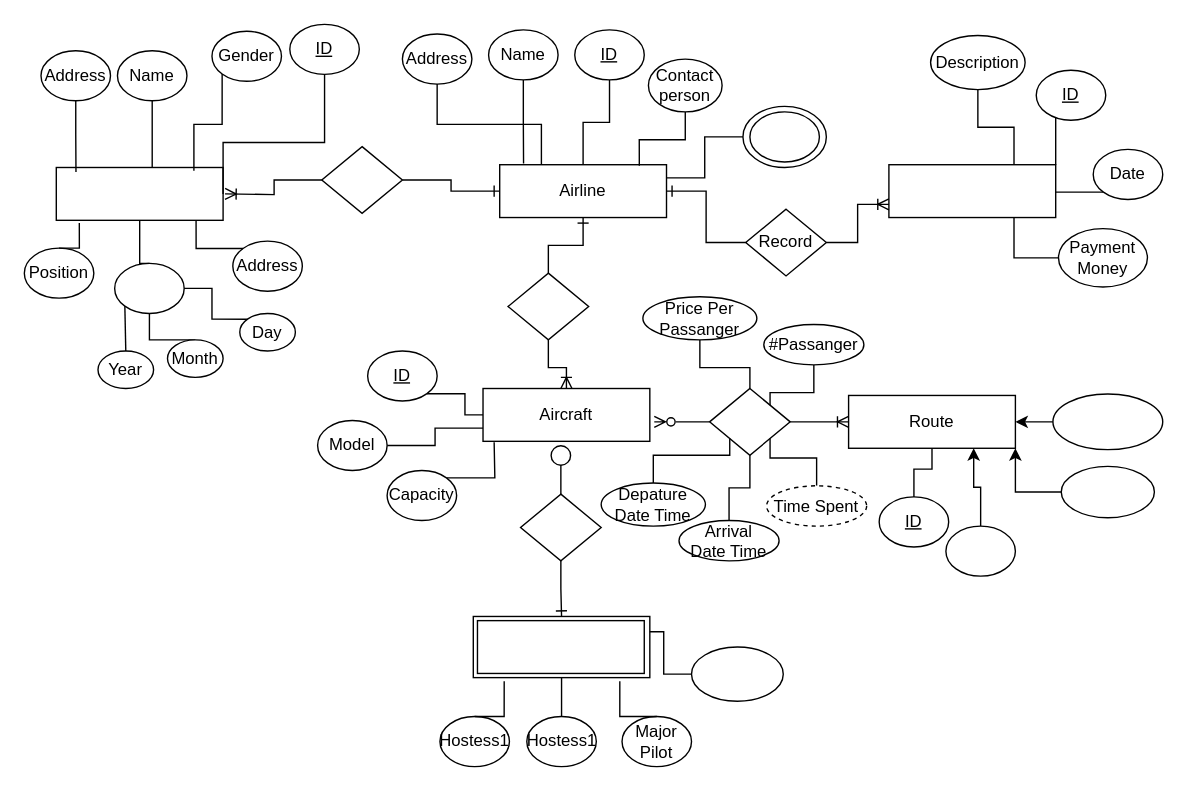
Image size: 1187x791. Some labels were removed from this diagram. The centre of each missing label's shape, as x and y in pixels:
"Assign" goes at (x=749, y=421).
"Assistant Pilot" goes at (x=736, y=673).
"BOD" goes at (x=148, y=287).
"Classification" goes at (x=1107, y=421).
"Crew" goes at (x=560, y=646).
"Destination" goes at (x=1107, y=491).
"Employee" goes at (x=139, y=193).
"Has" goes at (x=560, y=527).
"Origin" goes at (x=980, y=550).
"Own" goes at (x=548, y=306).
"Phone" goes at (x=784, y=136).
"Transaction" goes at (x=972, y=190).
"Work" goes at (x=361, y=179).
